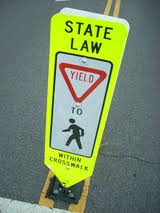yield_sign: (58, 62, 109, 104)
